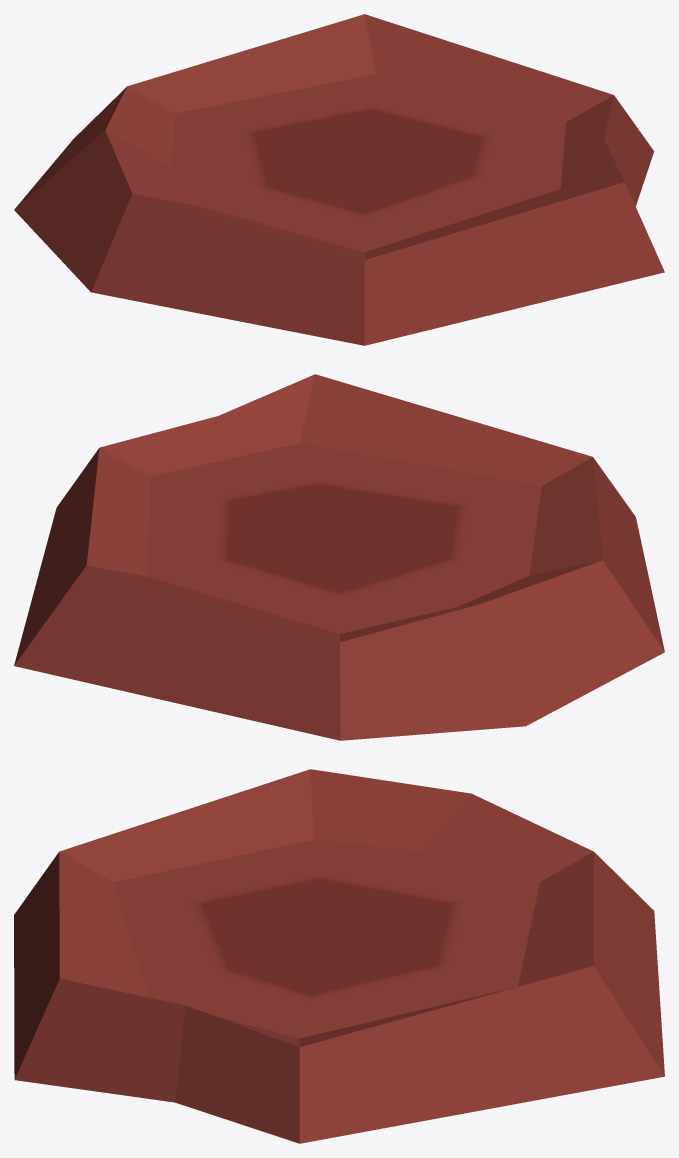
File: SM_Prop_Wax_Seal_02.fbx
3 renders of one model, top to bottom at view 1: azimuth 30°, elevation 25°; view 2: azimuth 150°, elevation 25°; view 3: azimuth 270°, elevation 25°, orthographic. The views are drawn at different scales.
Parts seen in each view (by area): view 1: SM_Prop_Wax_Seal_02; view 2: SM_Prop_Wax_Seal_02; view 3: SM_Prop_Wax_Seal_02.
Part boxes in pixels (x1,y1,x2,y2): SM_Prop_Wax_Seal_02: (14,14,664,345); SM_Prop_Wax_Seal_02: (14,374,664,740); SM_Prop_Wax_Seal_02: (14,769,664,1143).
Bounding box in the file's own units: 10.4 × 1.41 × 9.19.
